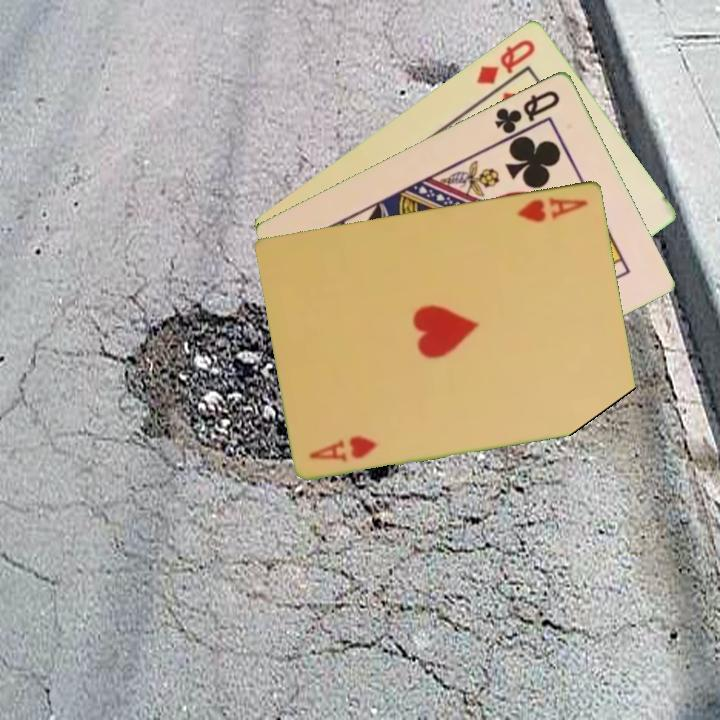Ah: (306, 432, 381, 465), (514, 193, 591, 225)
Qc: (491, 86, 563, 136)
Qd: (472, 35, 539, 87)
